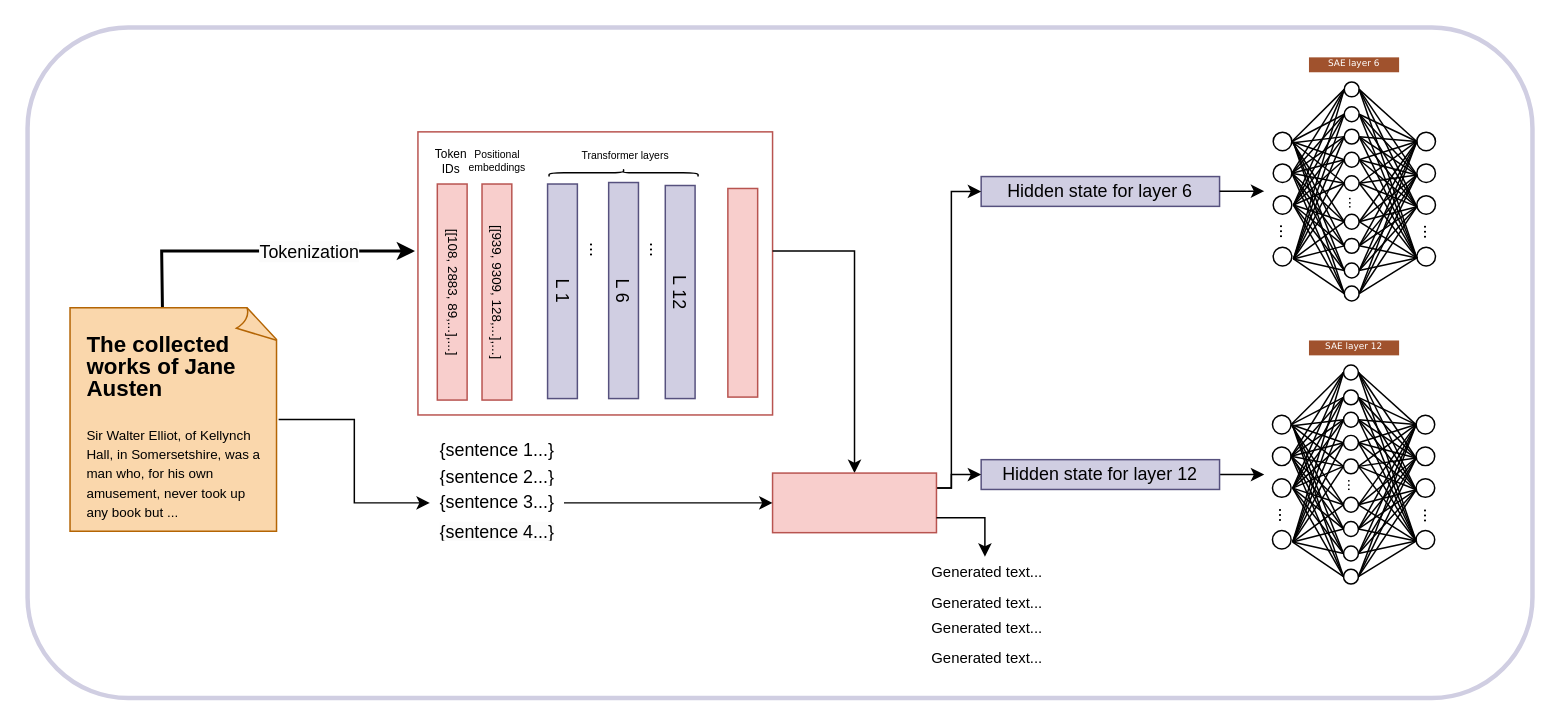
The diagram is 1560 pixels wide and 726 high, and some of its shapes have lost their labels. Each missing label, with the centre of its shape:
"LayerNorm" goes at pixel 742 292.
"Trained model" goes at pixel 853 502.
